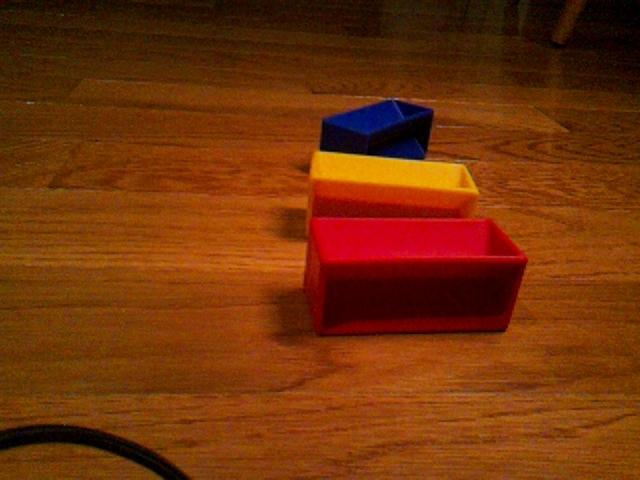blue: (319, 97, 435, 160)
red: (303, 215, 529, 336)
yellow: (306, 149, 480, 220)
